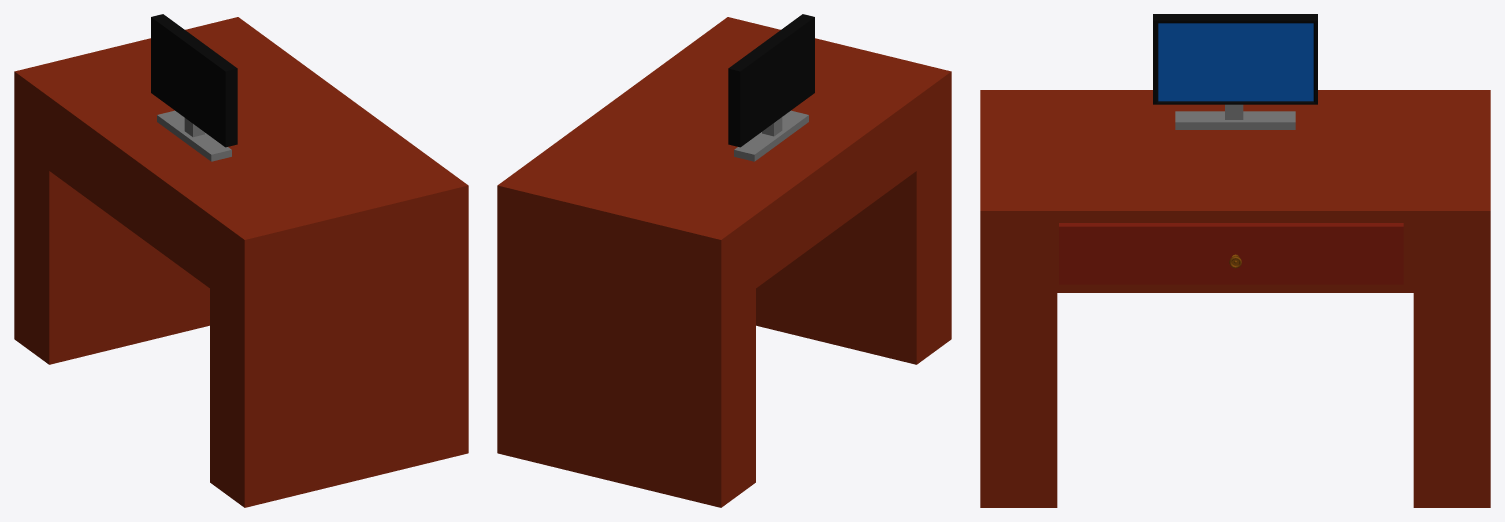
File: Desk.obj
3 renders of one model, left to right at view 1: azimuth 30°, elevation 25°; view 2: azimuth 150°, elevation 25°; view 3: azimuth 270°, elevation 25°, orthographic. The views are drawn at different scales.
Visible parts, largest first — view 1: MainDesk_Cube.001, MonMain_Cube.003, MonBase_Cube; view 2: MainDesk_Cube.001, MonMain_Cube.003, MonBase_Cube; view 3: MainDesk_Cube.001, Drawer_Cube.001_Cube.002, Plane, MonMain_Cube.003, MonBase_Cube.
Boxes of the visible parts, x1,y1,x2,y2 form: MainDesk_Cube.001: (14,17,468,507); MonMain_Cube.003: (151,14,237,147); MonBase_Cube: (157,110,231,161); MainDesk_Cube.001: (497,17,951,507); MonMain_Cube.003: (728,14,814,147); MonBase_Cube: (734,110,808,161); MainDesk_Cube.001: (980,90,1490,507); Drawer_Cube.001_Cube.002: (1059,223,1403,284); Plane: (1158,23,1313,101); MonMain_Cube.003: (1153,14,1317,104); MonBase_Cube: (1175,111,1295,129).
Bounding box in the file's own units: 2.08 × 3.03 × 3.46.
